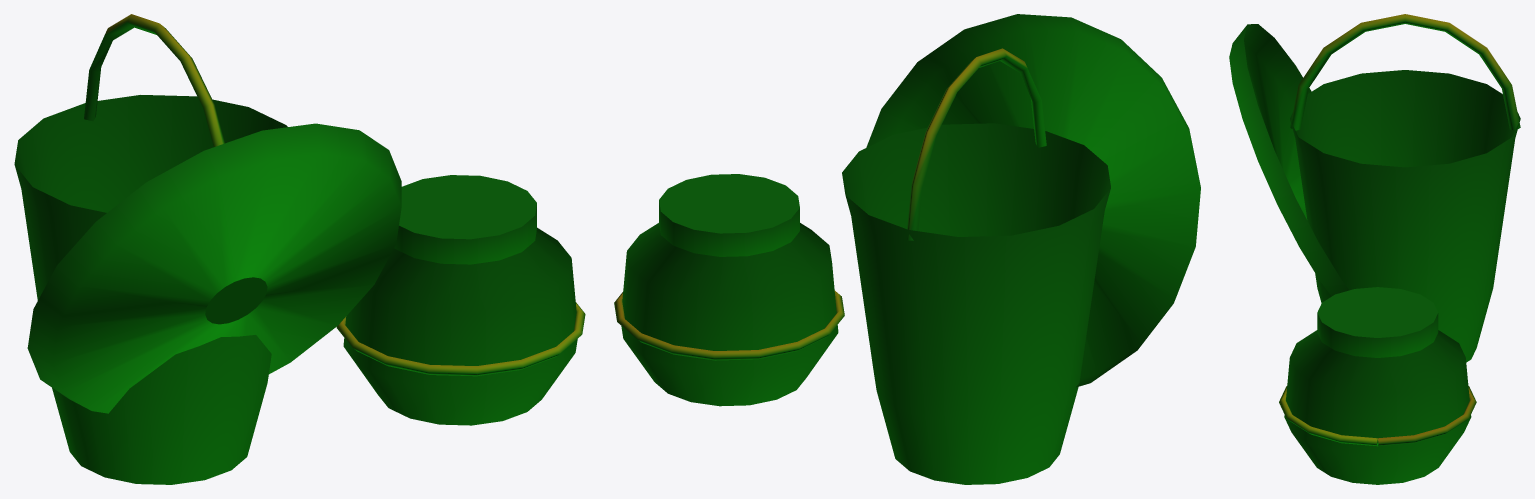
File: basket_set.glb
3 renders of one model, left to right at view 1: azimuth 30°, elevation 25°; view 2: azimuth 150°, elevation 25°; view 3: azimuth 270°, elevation 25°, orthographic. The views are drawn at different scales.
Parts seen in each view (by area): view 1: basket_set; view 2: basket_set; view 3: basket_set.
Part boxes in pixels (bbox=[...]): basket_set: bbox=[14, 14, 585, 484]; basket_set: bbox=[614, 14, 1200, 484]; basket_set: bbox=[1229, 14, 1520, 484].
Size of what is drawn, in the model's own units: 0.9498 by 0.67 by 0.5303.
